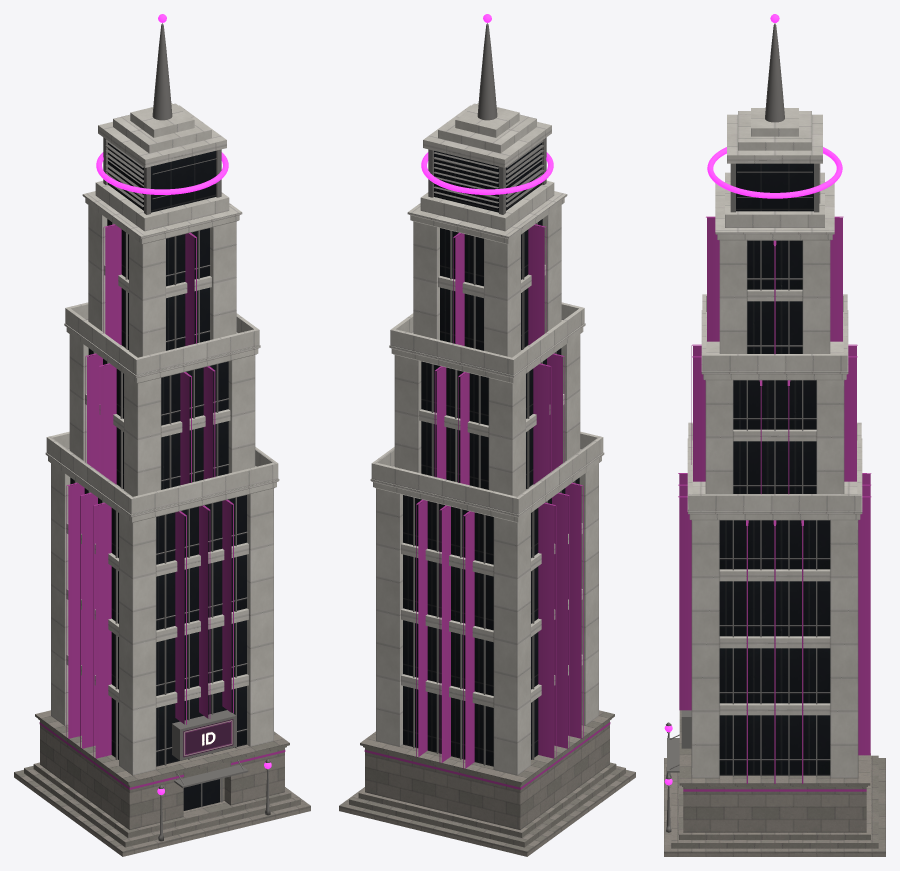
The model's file is s21-incubator-dao.glb.
3 renders of one model, left to right at view 1: azimuth 30°, elevation 25°; view 2: azimuth 150°, elevation 25°; view 3: azimuth 270°, elevation 25°, orthographic. The views are drawn at different scales.
Visible parts, largest first — view 1: Landmark · Incubator DAO (Series 21); view 2: Landmark · Incubator DAO (Series 21); view 3: Landmark · Incubator DAO (Series 21).
Part boxes in pixels (bbox=[...]): Landmark · Incubator DAO (Series 21): bbox=[14, 14, 310, 856]; Landmark · Incubator DAO (Series 21): bbox=[339, 14, 635, 856]; Landmark · Incubator DAO (Series 21): bbox=[664, 14, 885, 856].
Size of the model in its own units: 12 by 47.5 by 12.
7 materials, 4 textured.
